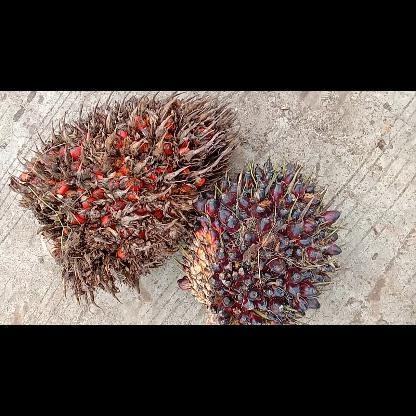TBS mentah: (178, 154, 342, 324)
Terlalu masak: (8, 91, 242, 311)
